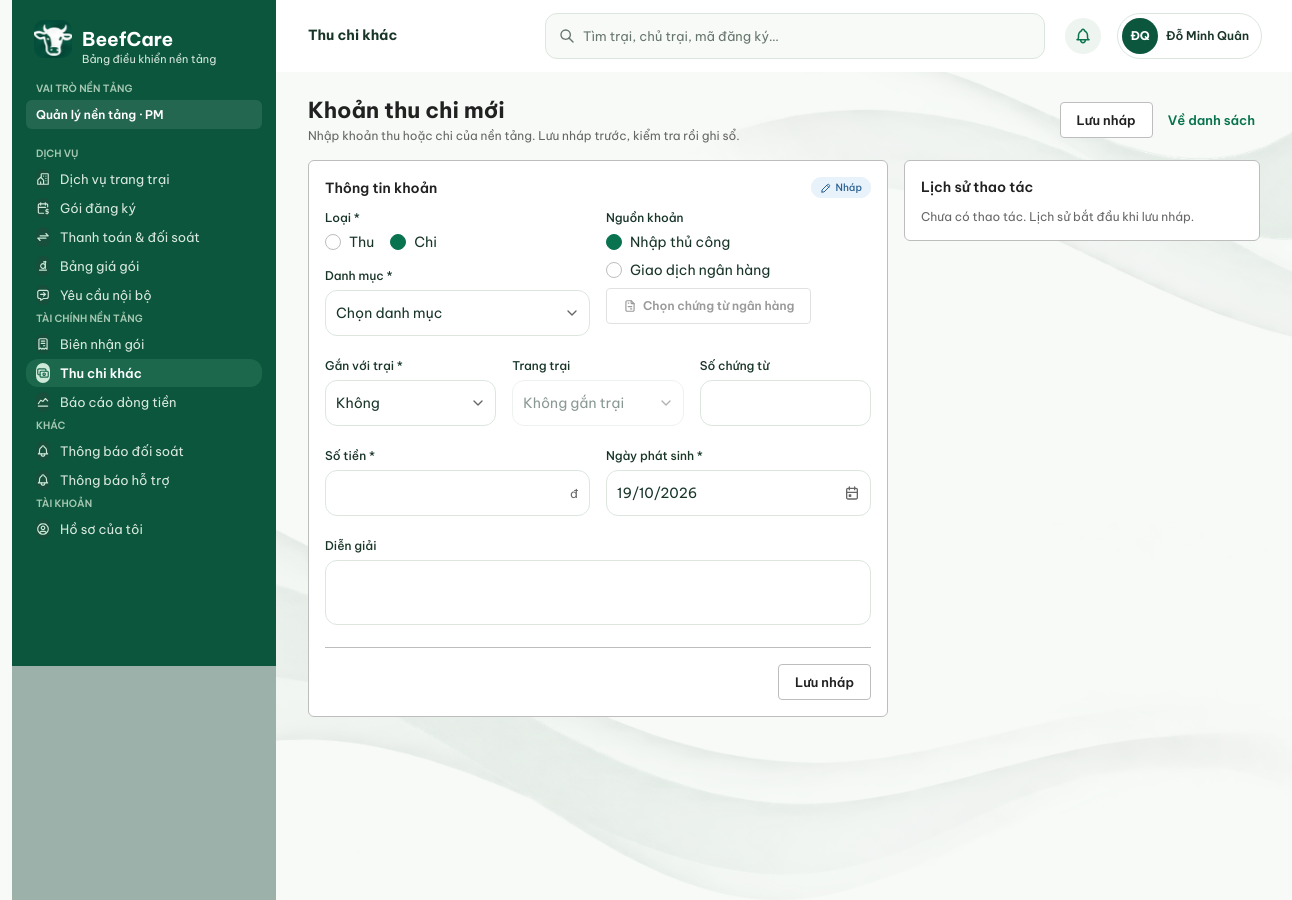
Test case: SCR-72 form khoản: đính kèm và nút lưu › nút Chọn chứng từ ngân hàng luôn hiện: mờ khi nhập thủ công, sáng khi nguồn là giao dịch ngân hàng; không còn đính kèm tệp; có nút Lưu nháp ở cuối phiếu
This screenshot has width=1292, height=900.
Check: the number of buttons "Lưu nháp" is 2, box [1060,102,1153,138]; [778,664,871,700]
Check: the button "Chọn chứng từ ngân hàng" is disabled, box [606,288,811,324]
Click the radio button labelled "Giao dịch ngân hàng" at [688, 270], box [606,260,770,280]
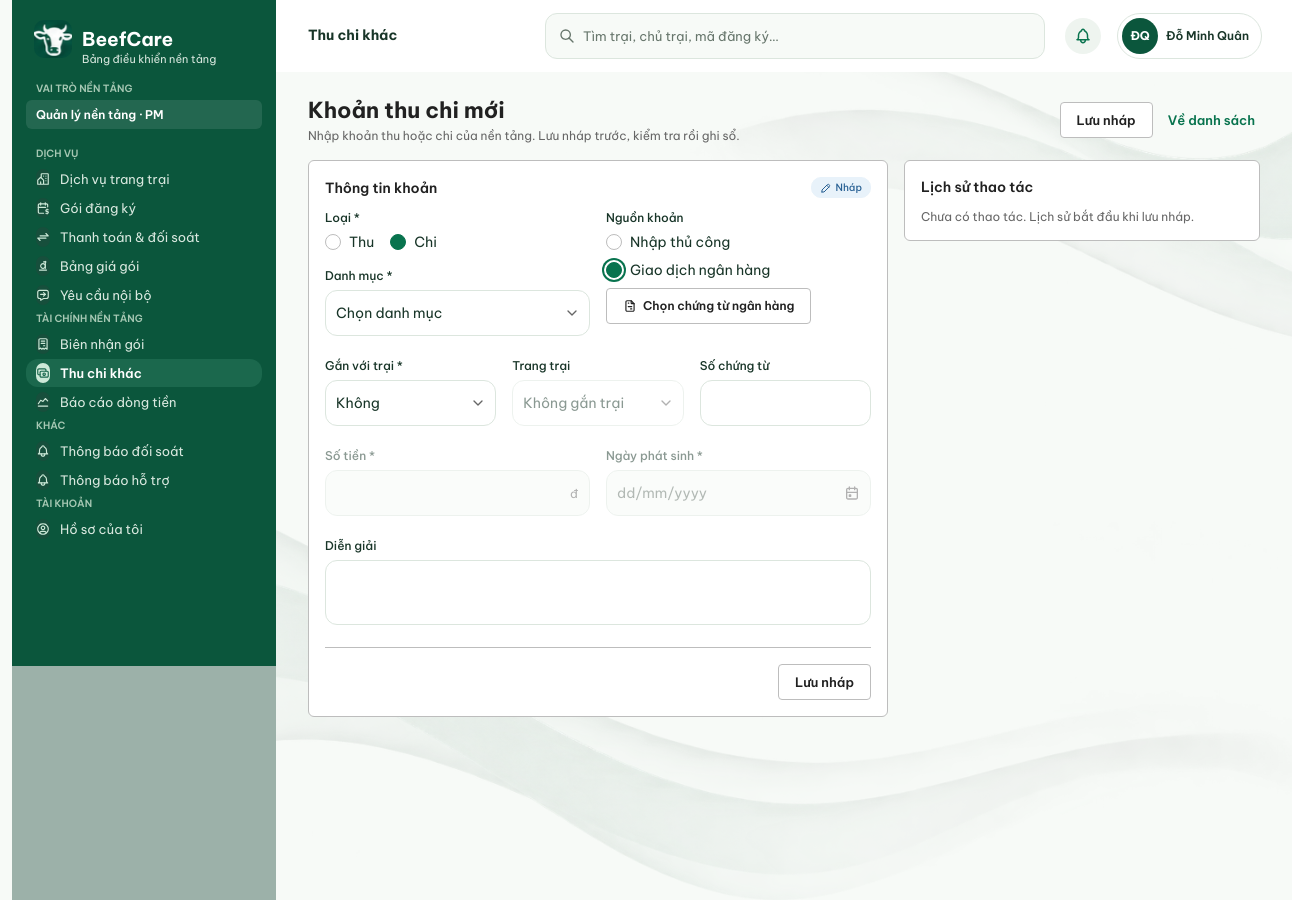
Check: the button "Chọn chứng từ ngân hàng" is enabled, box [606,288,811,324]
